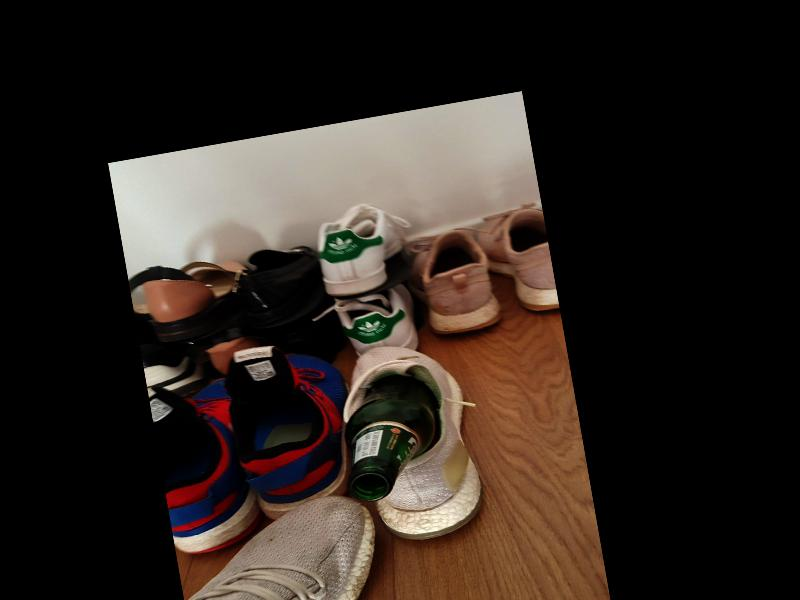Beer: (332, 370, 449, 503)
